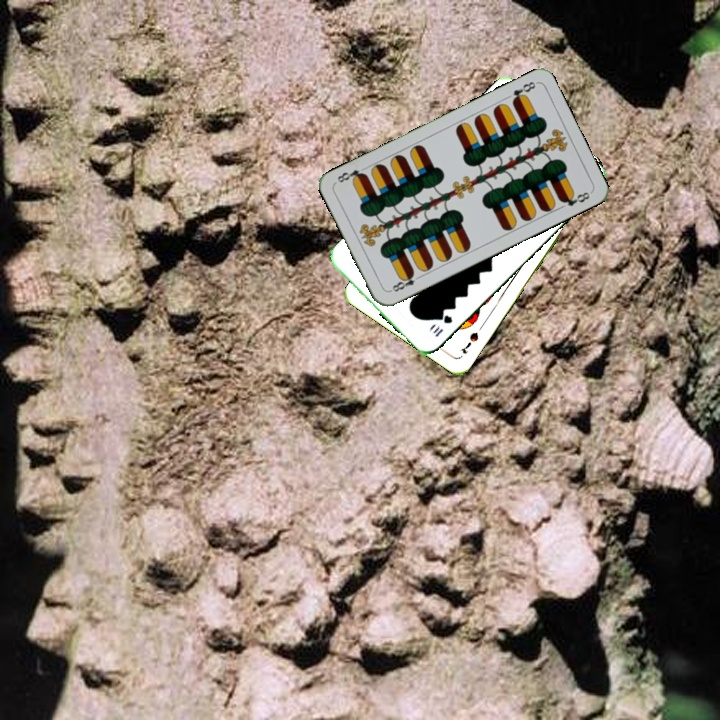E8: (386, 268, 424, 294), (508, 77, 539, 106)
G10: (428, 311, 455, 340)
S7: (456, 328, 481, 356)
